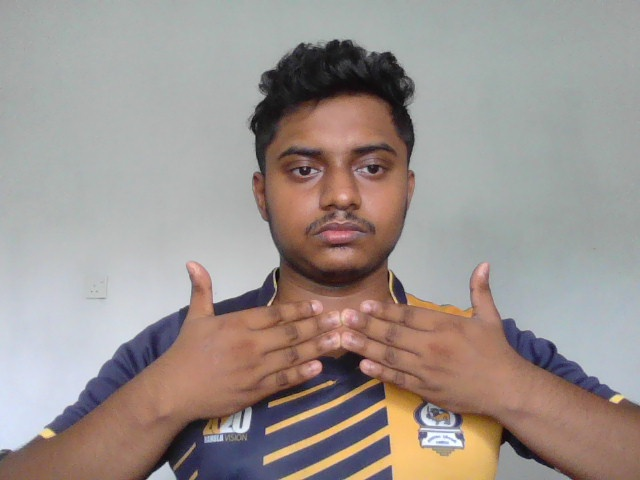Thank You: (161, 262, 509, 425)
